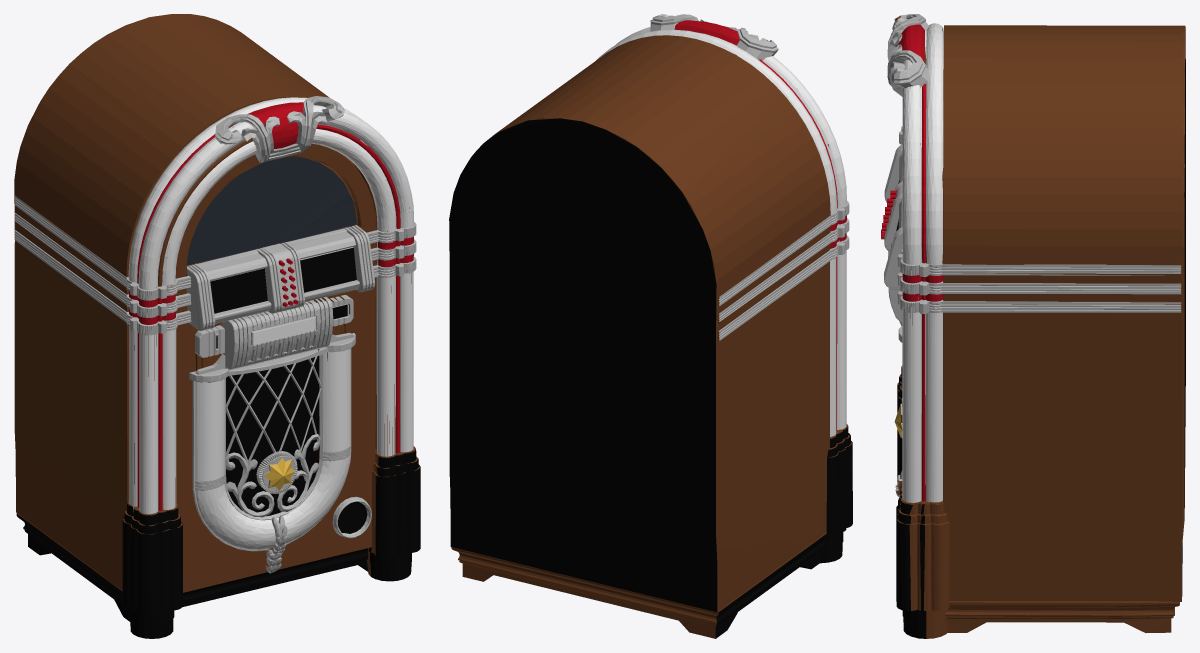
File: Jukebox.fbx
3 renders of one model, left to right at view 1: azimuth 30°, elevation 25°; view 2: azimuth 150°, elevation 25°; view 3: azimuth 270°, elevation 25°, orthographic. The views are drawn at different scales.
Parts seen in each view (by area): view 1: Jukebox; view 2: Jukebox; view 3: Jukebox.
Boxes of the visible parts, x1=… form: Jukebox: x1=14, y1=14, x2=420, y2=638; Jukebox: x1=449, y1=14, x2=852, y2=638; Jukebox: x1=881, y1=14, x2=1185, y2=638.
Size of the model in its own units: 713 by 1214 by 630.
